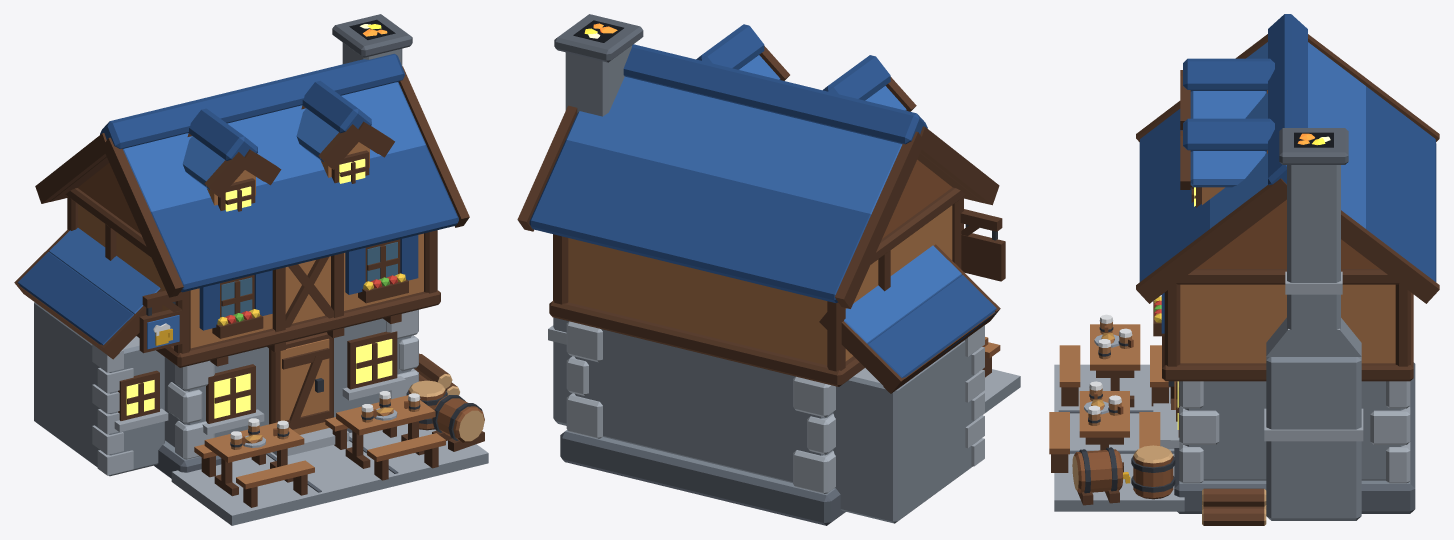
Rendered from Bld_Tavern_L2.fbx.
3 views of the same model, side by side, from view 1: azimuth 30°, elevation 25°; view 2: azimuth 150°, elevation 25°; view 3: azimuth 270°, elevation 25° (orthographic). The views are drawn at different scales.
Parts seen in each view (by area): view 1: Bld_Tavern_L2; view 2: Bld_Tavern_L2; view 3: Bld_Tavern_L2.
Part boxes in pixels (left/top/right/bottom): Bld_Tavern_L2: left=14, top=14, right=488, bottom=525; Bld_Tavern_L2: left=517, top=14, right=1020, bottom=525; Bld_Tavern_L2: left=1049, top=14, right=1439, bottom=525.
Bounding box in the file's own units: 5.07 × 4.88 × 4.5.
